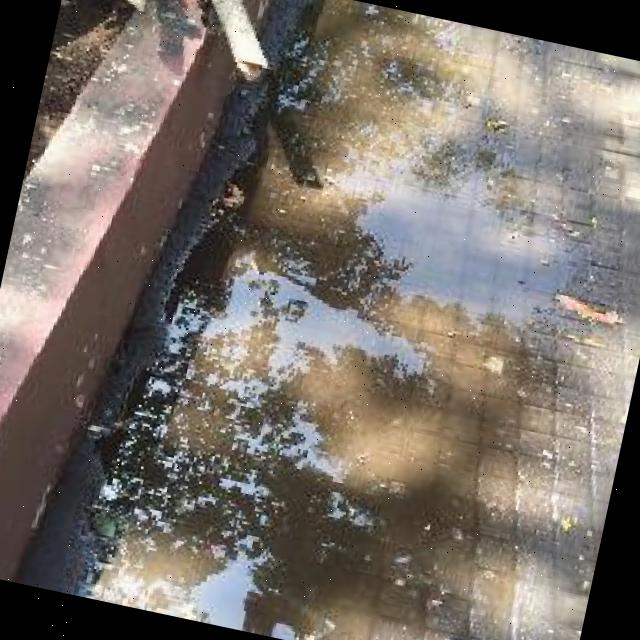stagnation: (158, 9, 600, 640)
